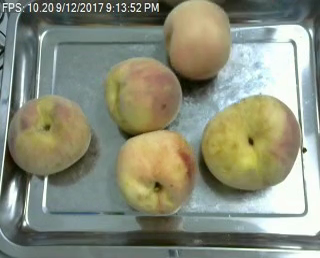Peach: (201, 93, 301, 189), (116, 130, 196, 215), (8, 94, 90, 176), (101, 54, 183, 133), (163, 0, 232, 79)
